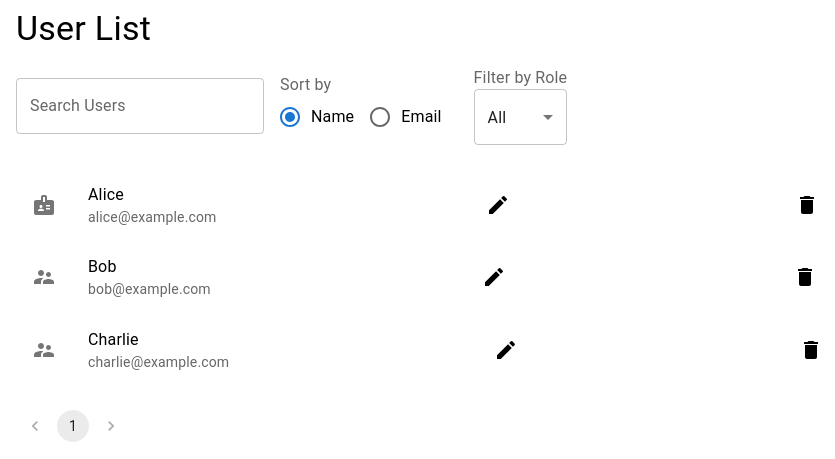
Test: UserEmployeeListMittel › filters users based on search term
The image size is (835, 459).
Step 1. Type "Alice" into the field labelled "Search Users" → (140, 106), box [16,78,264,134]
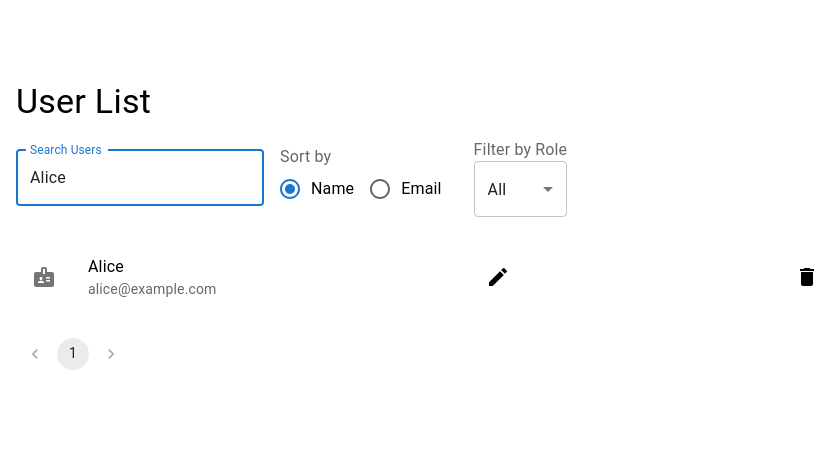
Expected: the list item labelled "Alice" is shown, [32,258,819,298]
Expected: the text labelled "Bob" is gone
